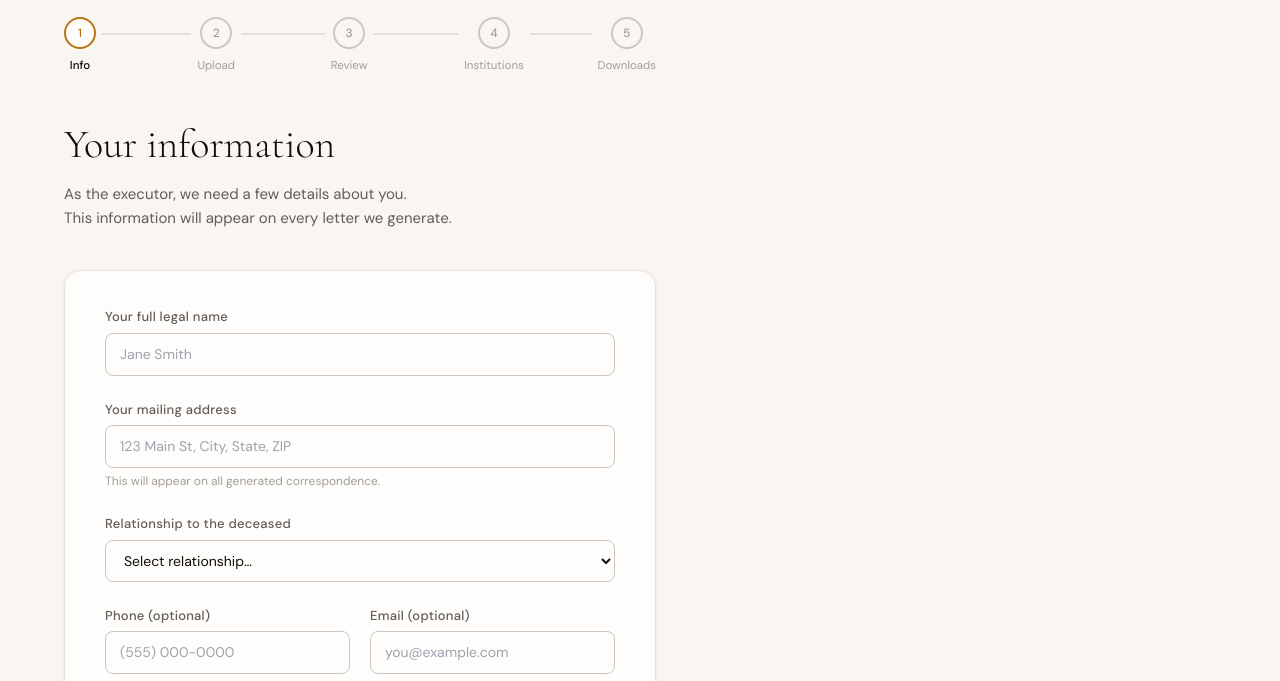
Test case: NewCasePage (integration) › creates case and navigates to upload page on success
The image size is (1280, 681).
Step 1. Type "Sarah Mitchell" into the field labelled "Your full legal name" → (360, 354), box [105, 333, 615, 376]
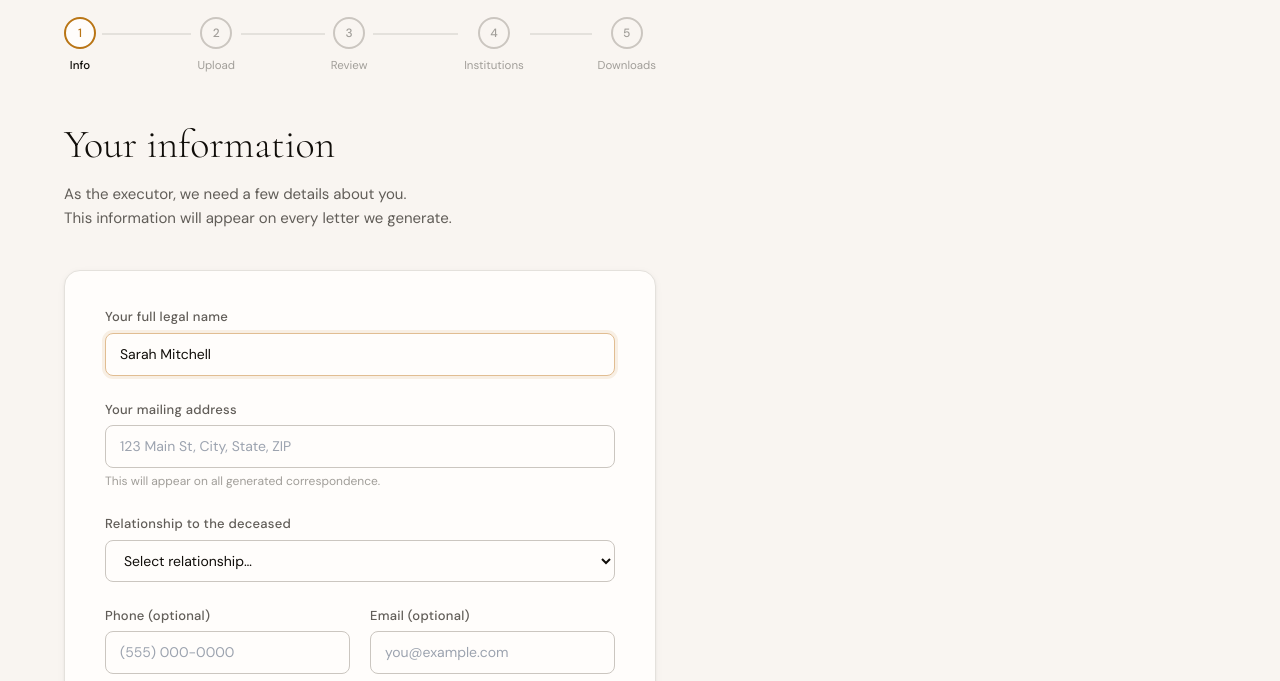
Step 2. Type "412 Maple Ave, Springfield, IL" into the field labelled "Your mailing address" → (360, 447), box [105, 425, 615, 468]
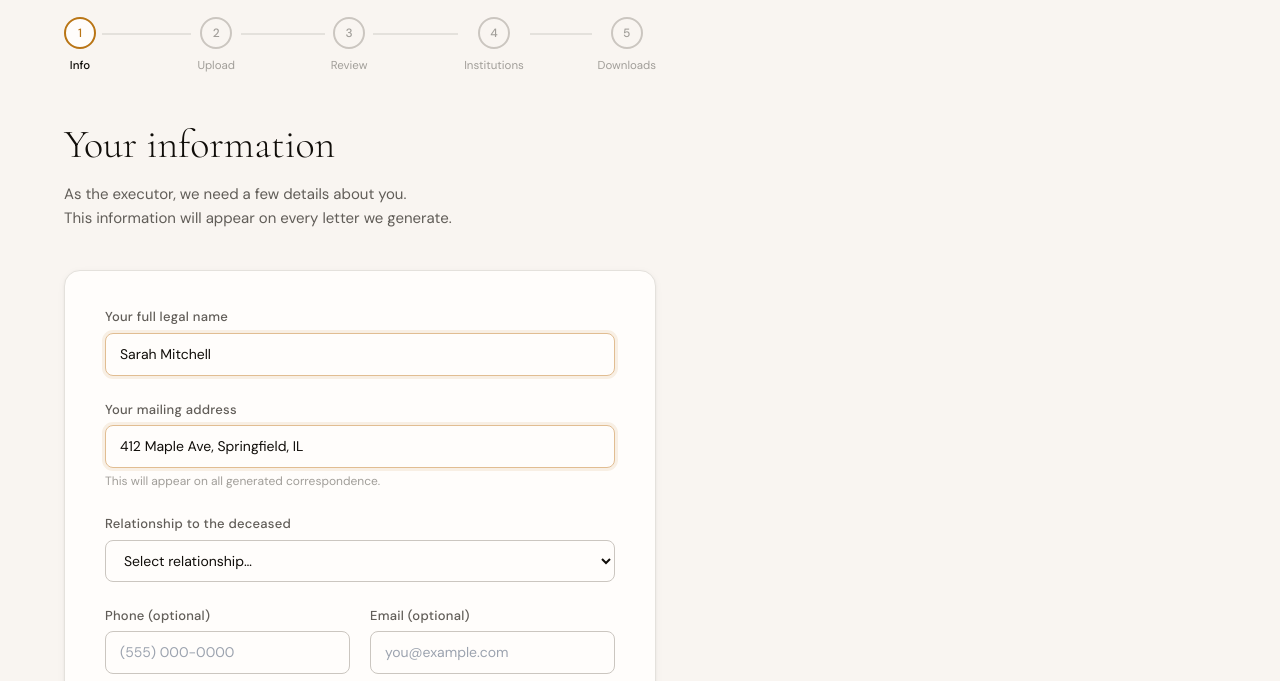
Step 3. Select "Child" in the dropdown labelled "Relationship to the deceased" → (360, 561), box [105, 540, 615, 582]
(page scrolled)
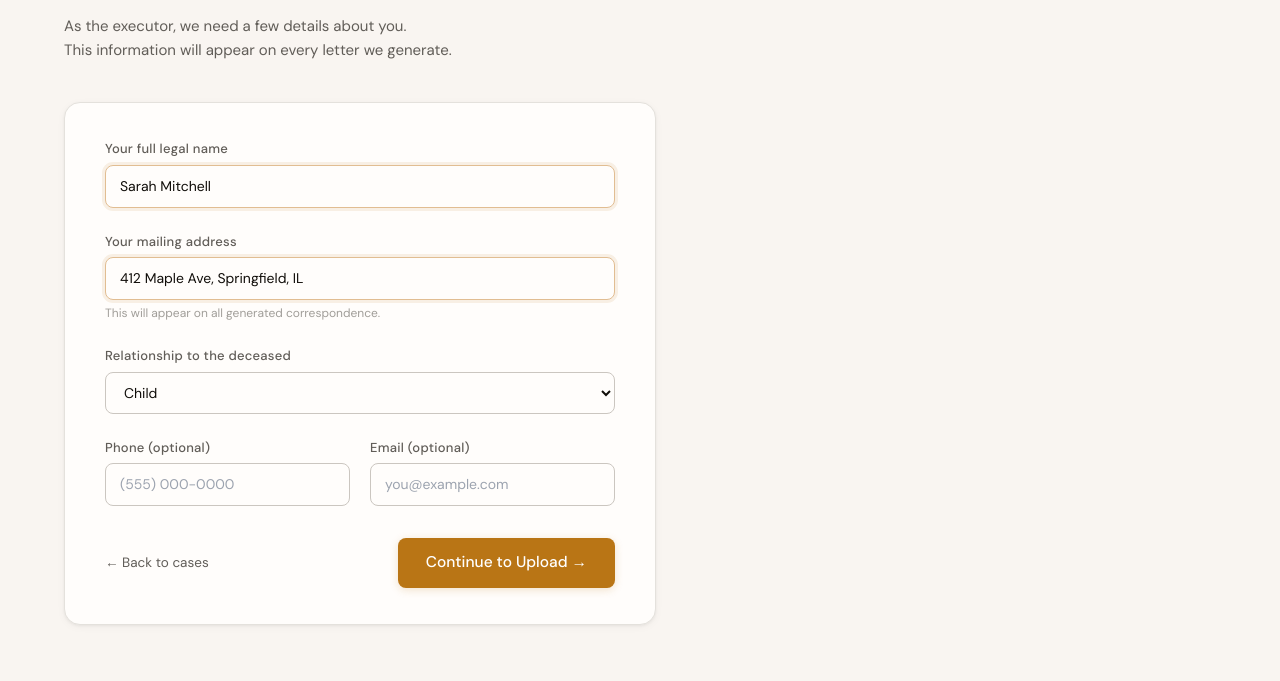
Step 4. Click the button "Continue to Upload →" → (506, 563), box [398, 538, 615, 588]
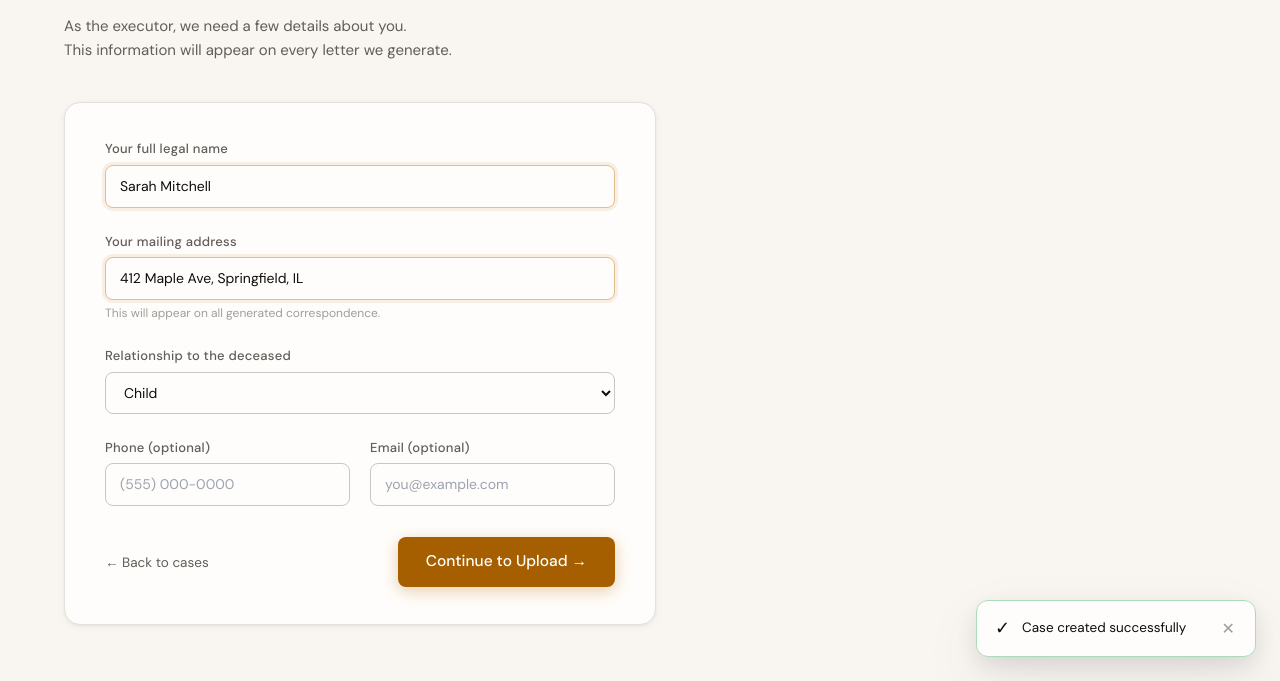
Expected: the message shows "Case created successfully", [1022, 619, 1186, 636]
